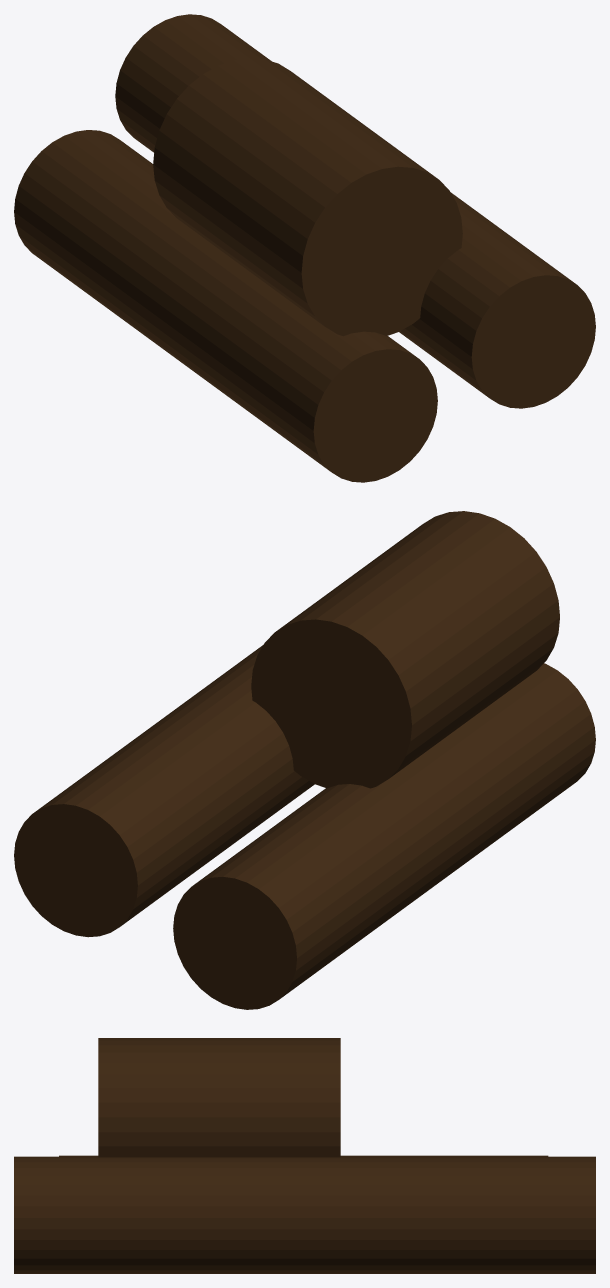
The model's file is item_wood.glb.
3 renders of one model, top to bottom at view 1: azimuth 30°, elevation 25°; view 2: azimuth 150°, elevation 25°; view 3: azimuth 270°, elevation 25°, orthographic. The views are drawn at different scales.
Parts seen in each view (by area): view 1: Cylinder, Cylinder.002, Cylinder.001; view 2: Cylinder, Cylinder.002, Cylinder.001; view 3: Cylinder.001, Cylinder.002, Cylinder.
Boxes of the visible parts, <box> form: Cylinder: <box>14,130,437,482</box>; Cylinder.002: <box>153,58,462,336</box>; Cylinder.001: <box>115,14,595,408</box>; Cylinder: <box>173,663,595,1009</box>; Cylinder.002: <box>251,511,559,788</box>; Cylinder.001: <box>14,645,314,937</box>; Cylinder.001: <box>14,1156,595,1273</box>; Cylinder.002: <box>98,1038,340,1157</box>; Cylinder: <box>59,1155,548,1156</box>.
Bounding box in the file's own units: 0.4253 × 0.458 × 1.03.
